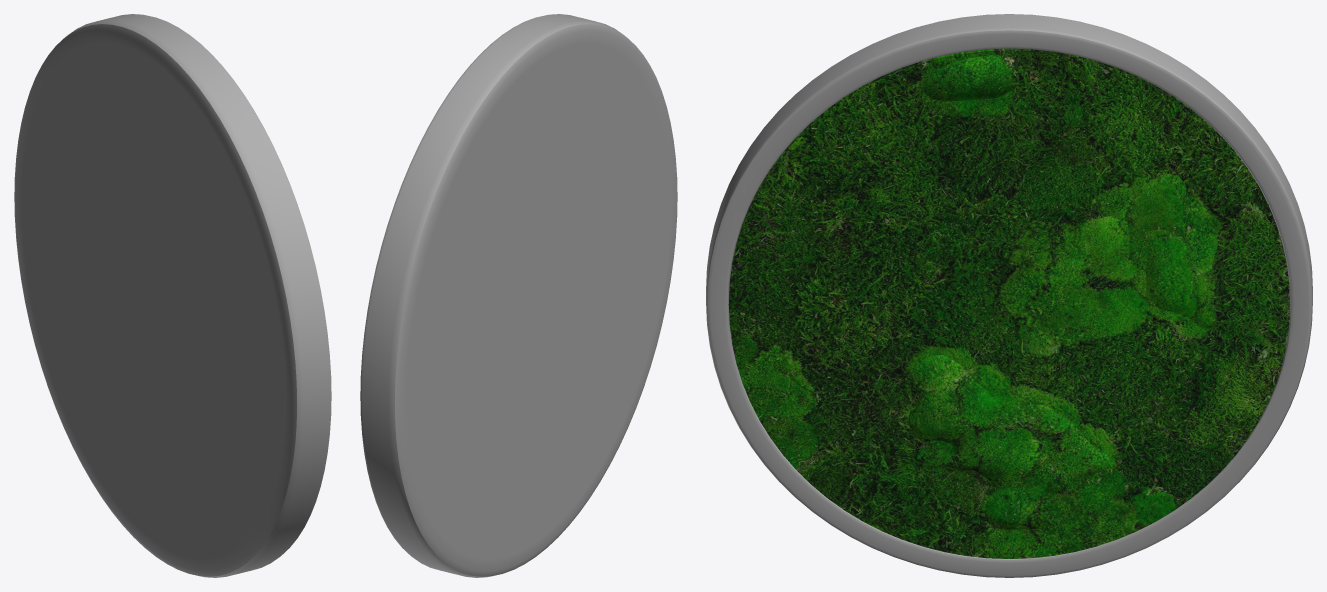
Rendered from Moosbild_Hugelmoos_rund_600mm_white_20yarıcap.fbx.
3 renders of one model, left to right at view 1: azimuth 30°, elevation 25°; view 2: azimuth 150°, elevation 25°; view 3: azimuth 270°, elevation 25°, orthographic. The views are drawn at different scales.
Visible parts, largest first — view 1: edge; view 2: edge; view 3: moss_low2, edge, moss18.
Boxes of the visible parts, left/top/right/bottom form: edge: left=14, top=14, right=331, bottom=577; edge: left=360, top=14, right=677, bottom=577; moss_low2: left=728, top=50, right=1290, bottom=558; edge: left=706, top=14, right=1312, bottom=577; moss18: left=729, top=48, right=1289, bottom=534.
Bounding box in the file's own units: 3.78 × 40 × 40.
2 materials, 1 textured.
